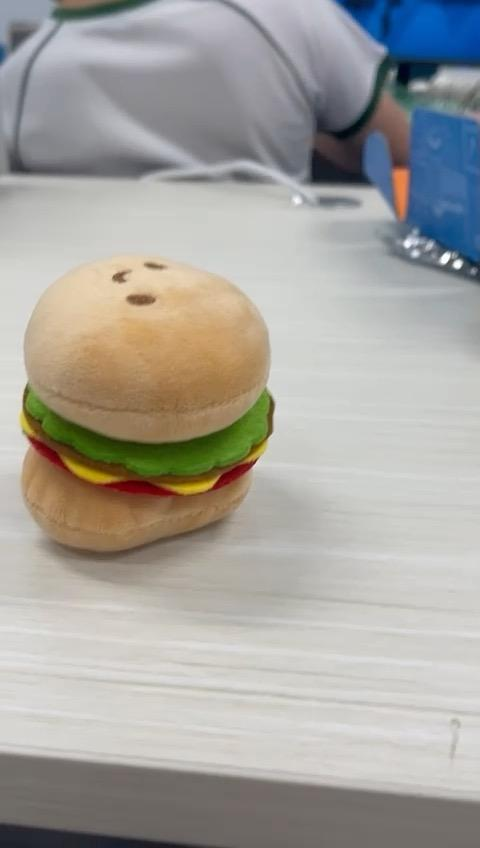hamburger: (20, 257, 277, 553)
